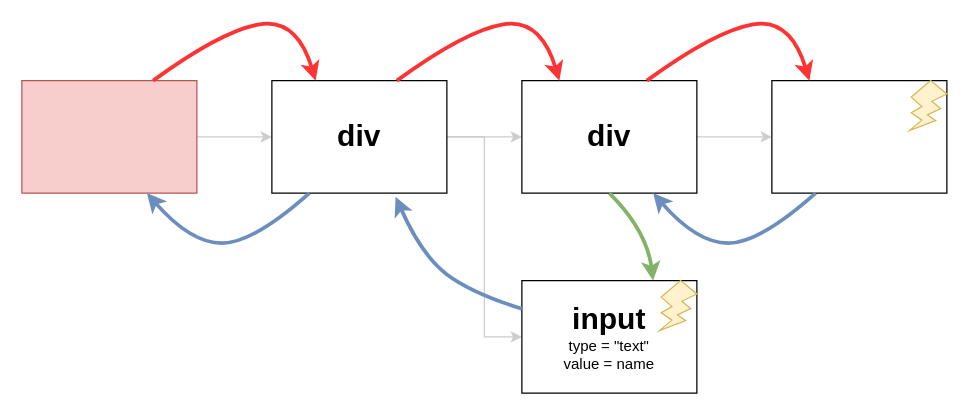
Image size: 969x415. Some labels were removed from this diagram. The box of each missing label's shape, as (x1, y1, x2, y2) in pixels:
App ...props: (21, 79, 197, 193)
text value = `Hello ${name}!`: (771, 79, 947, 193)
